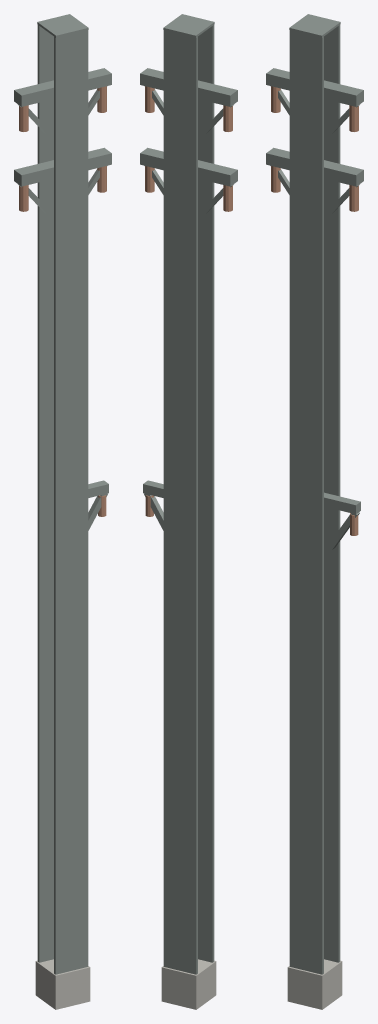
File: dm_catenarypole.glb
3 renders of one model, left to right at view 1: azimuth 30°, elevation 25°; view 2: azimuth 150°, elevation 25°; view 3: azimuth 330°, elevation 25°, orthographic.
Visible parts, largest first — view 1: dm_catenarypole; view 2: dm_catenarypole; view 3: dm_catenarypole.
Part boxes in pixels (x1,y1,x2,y2): dm_catenarypole: (14, 14, 111, 1009); dm_catenarypole: (140, 14, 237, 1009); dm_catenarypole: (266, 14, 363, 1009).
Bounding box in the file's own units: 0.83 × 8.55 × 0.32.
